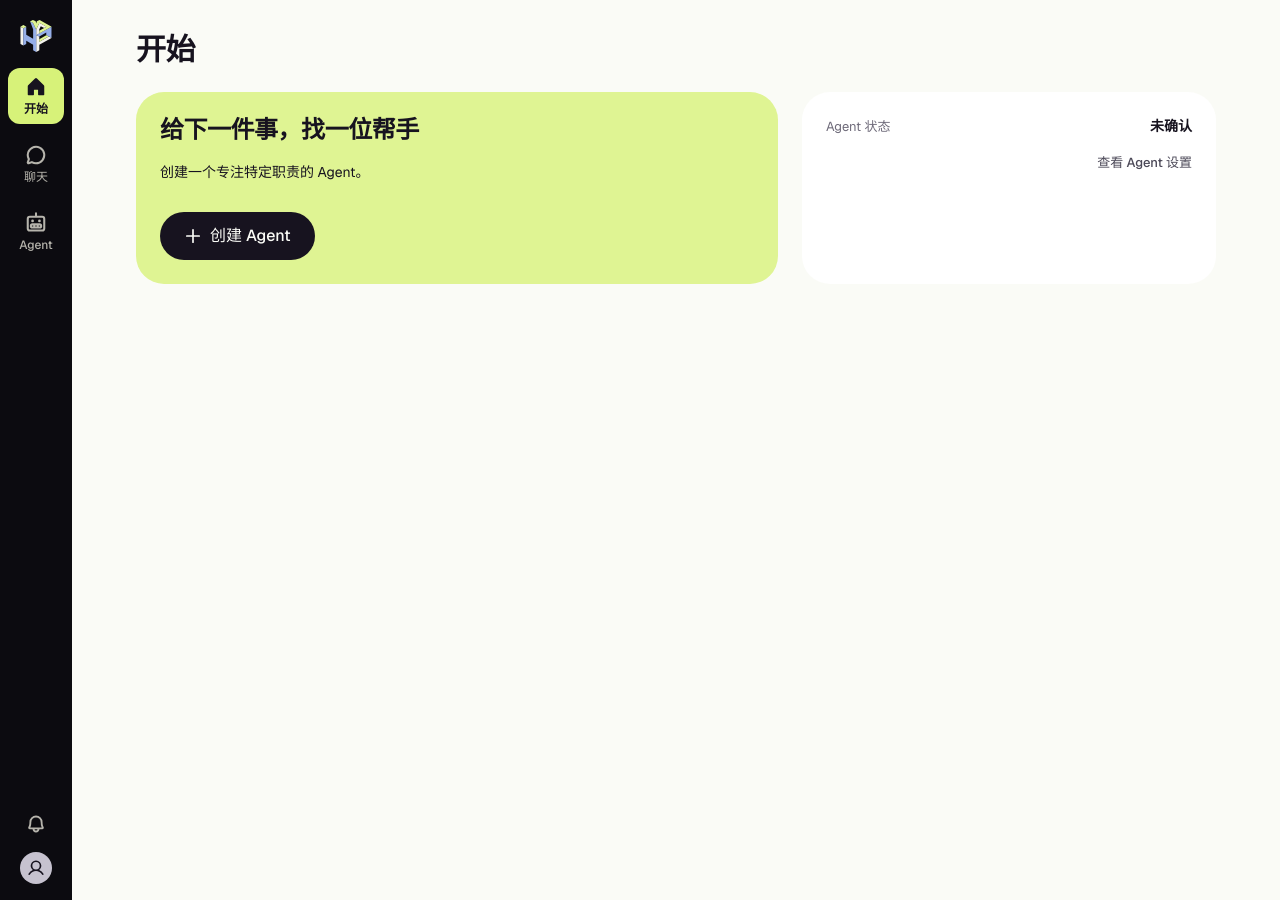
Test: agents page create/stop wiring (implG2) › hides deletion without a confirmation capability
This screenshot has width=1280, height=900.
Click the button "Agent" at (36,232), box [8,204,64,260]
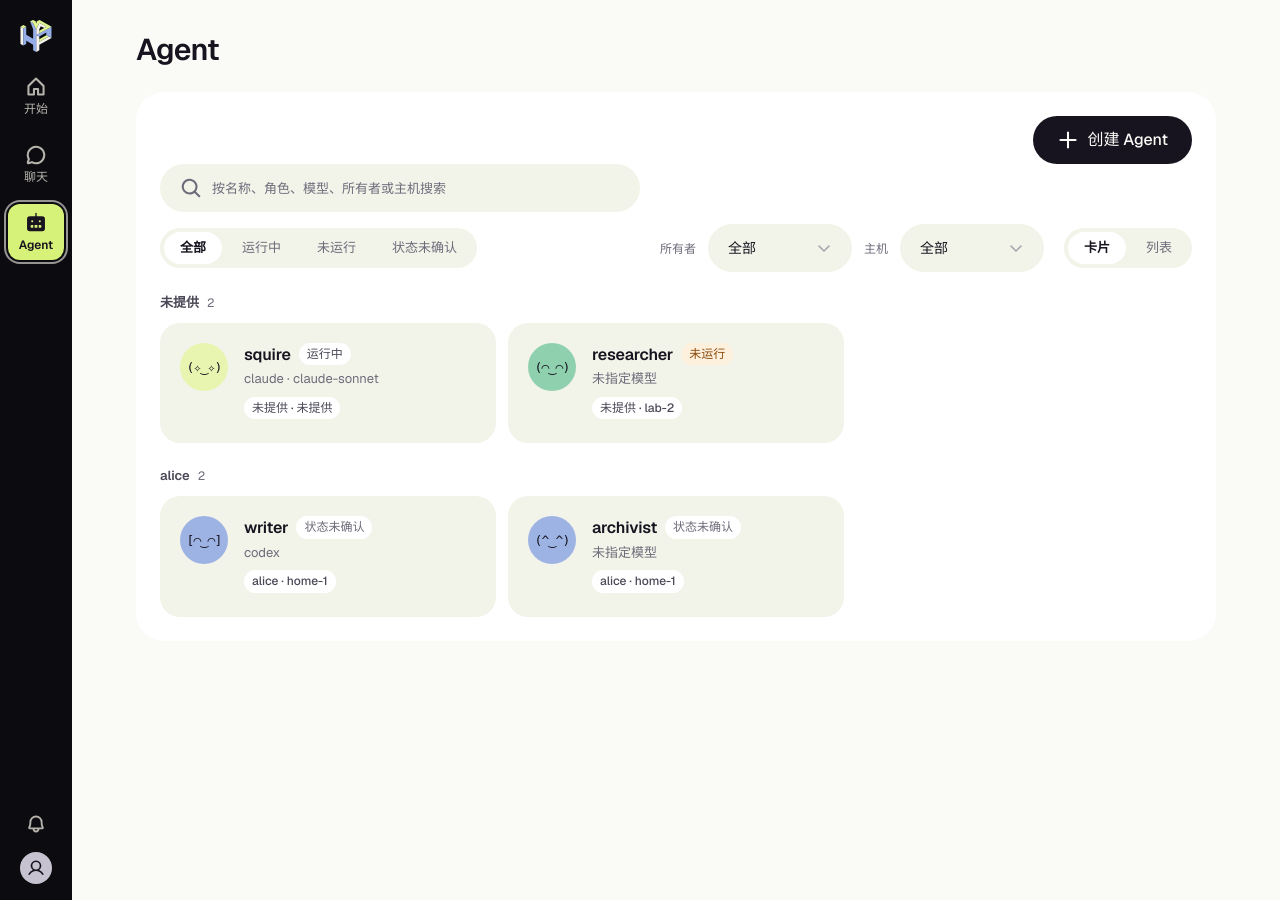
Click the button with test id "contact-squire" at (328,383), box [160,323,496,443]
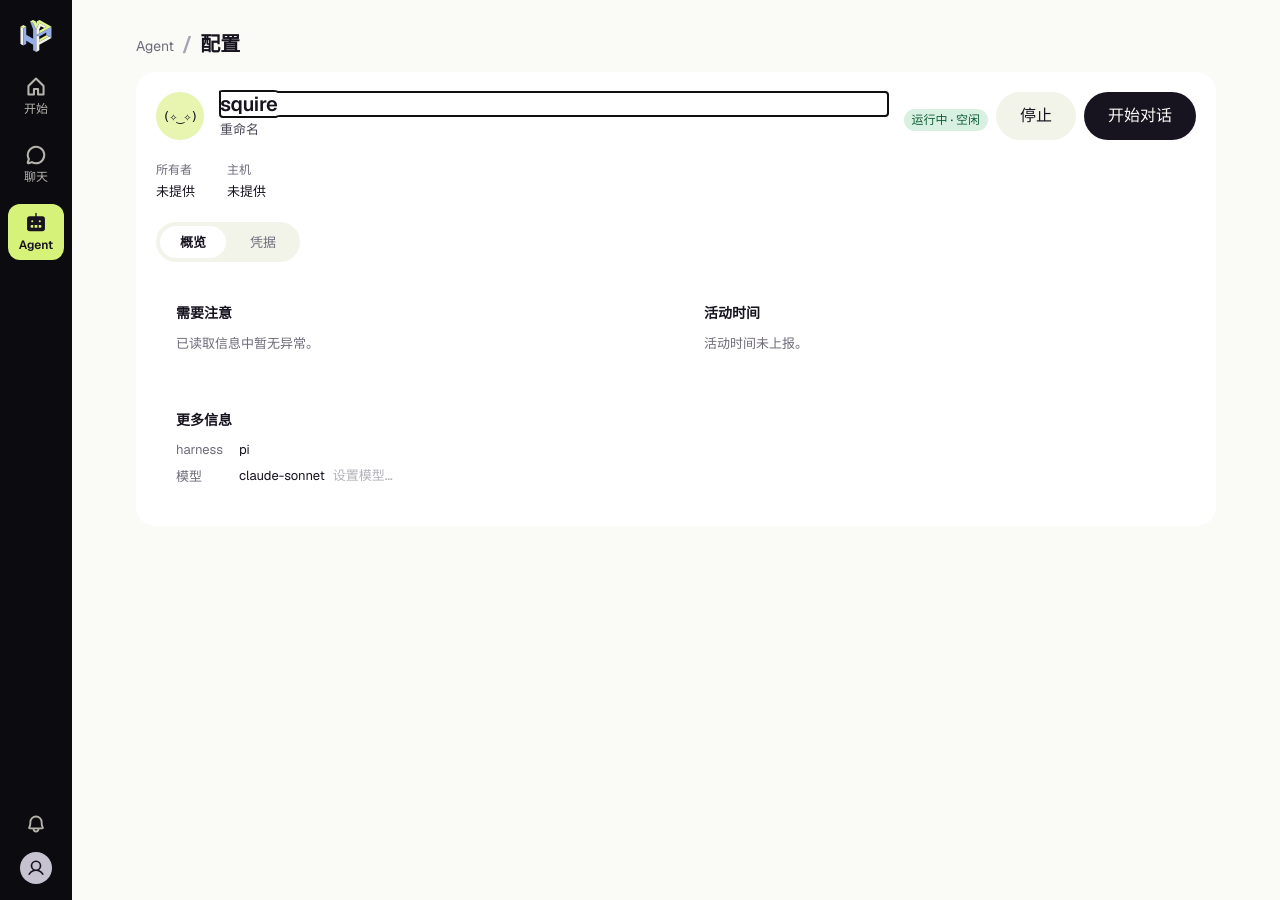
Click the tab "凭据" at (263,242), box [230,226,296,258]
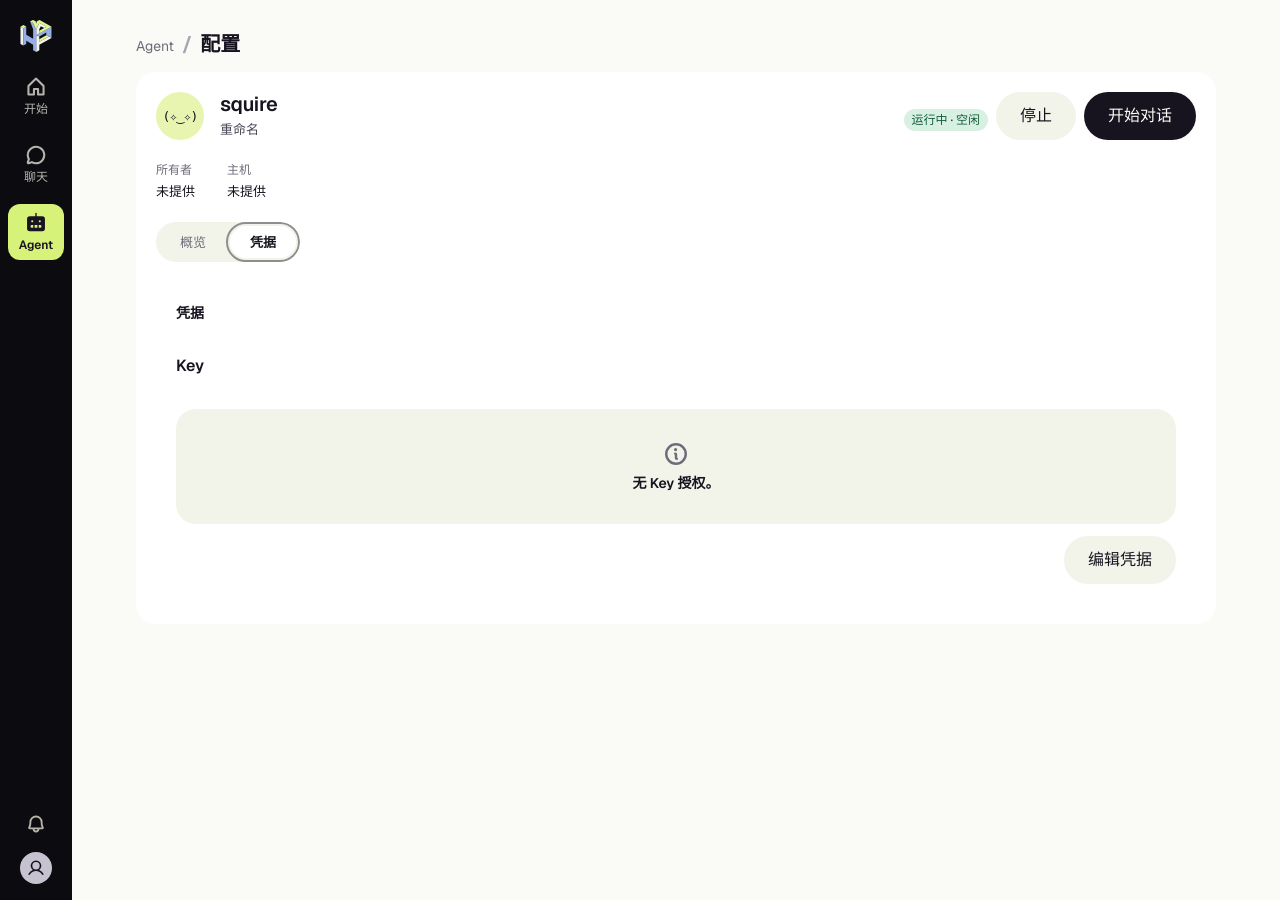
Result: the text "无 Key 授权。" is shown at [632,475,720,492]
